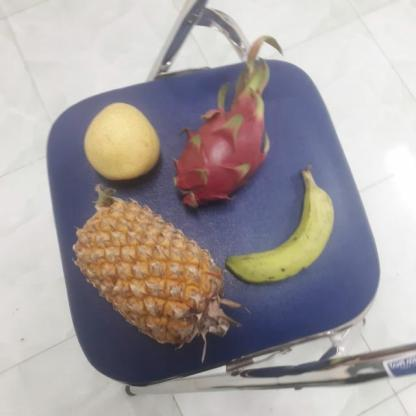banana: (229, 173, 339, 286)
pear: (85, 101, 165, 181)
pineapple: (82, 196, 231, 344)
pitaya: (172, 91, 271, 211)
